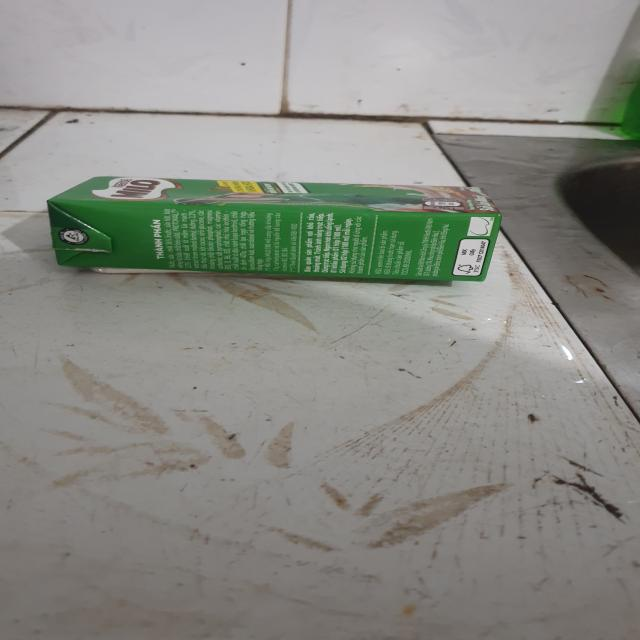Milo: (40, 173, 509, 289)
